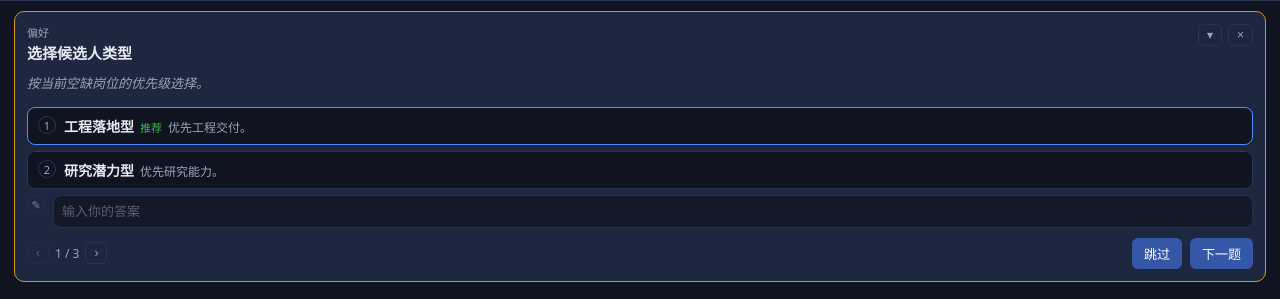
QuestionComposer › shows the inline custom input, reports missing answers, and supports pager navigation
Expected: the text box with placeholder "输入你的答案" is shown, [53,195,1253,228]
Click the radio button labelled "工程落地型". click: (99,126)
box: [27,107,1253,145]
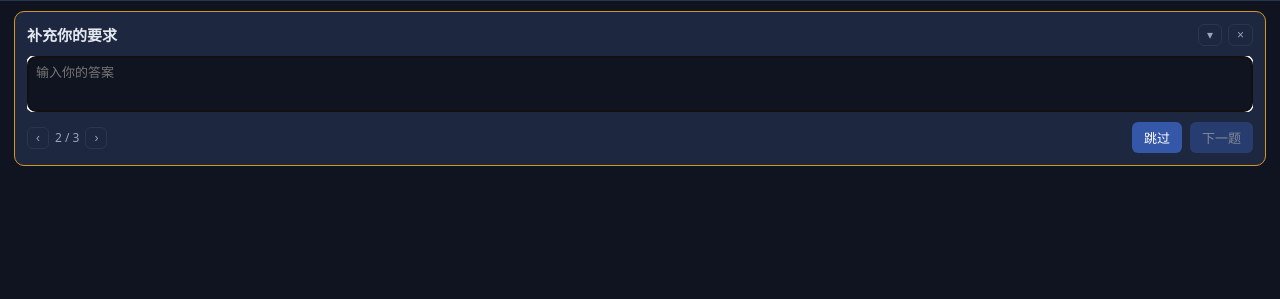
Press Enter in the text box with placeholder "输入你的答案", box [27,56,1253,112]
Result: the text "2 / 3" is shown at [55,129,80,146]
Press Enter in the text box with placeholder "输入你的答案", box [27,56,1253,112]
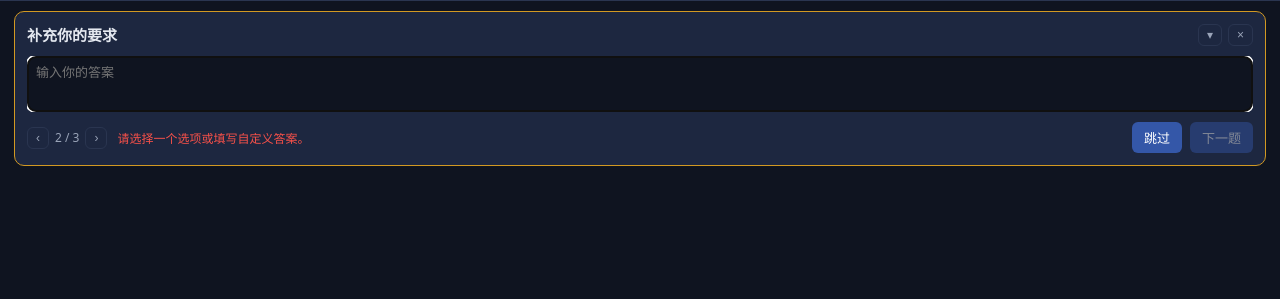
Result: the text "请选择一个选项或填写自定义答案。" is shown at [118,130,310,146]
Click the button named "下一题". click: (96,138)
box: [86,126,108,148]
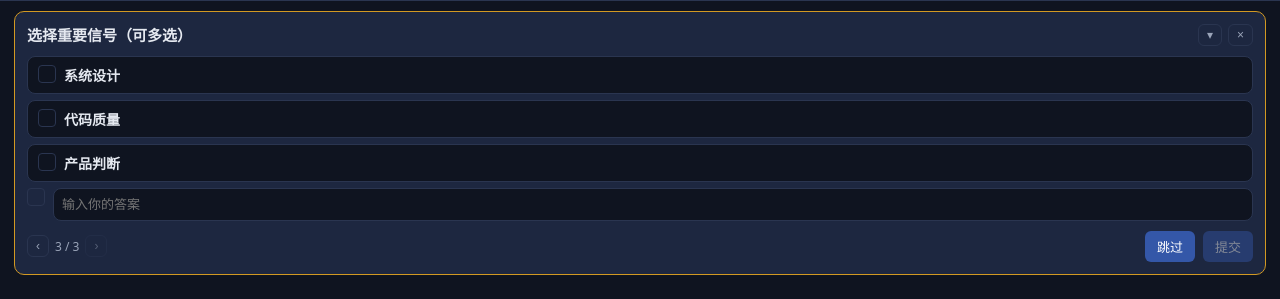
Click the checkbox labelled "产品判断". click: (92,164)
box: [27,144,1253,182]
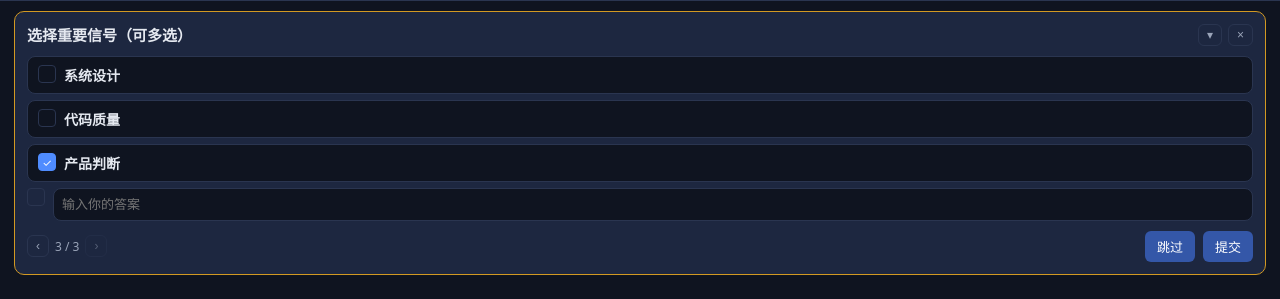
Click the button "提交". click: (1228,246)
box: [1203,231,1253,262]
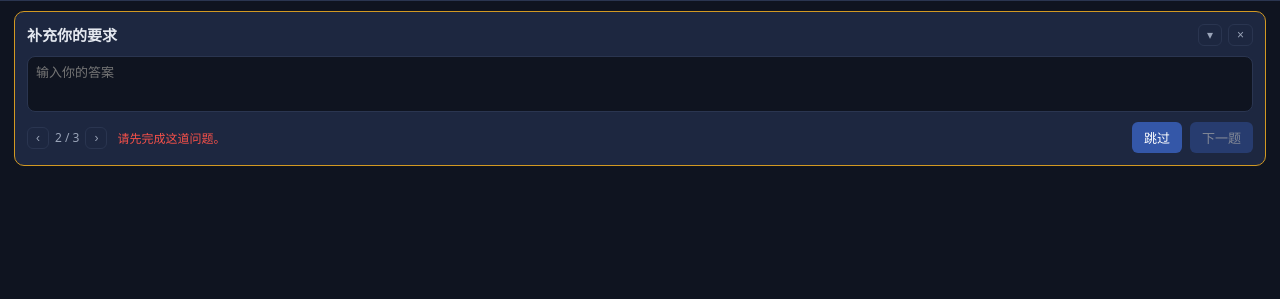
Result: the text "请先完成这道问题。" is shown at [118,130,226,146]
Result: the text "2 / 3" is shown at [55,129,80,146]
Click the button named "上一题". click: (38,138)
box: [27,126,49,148]
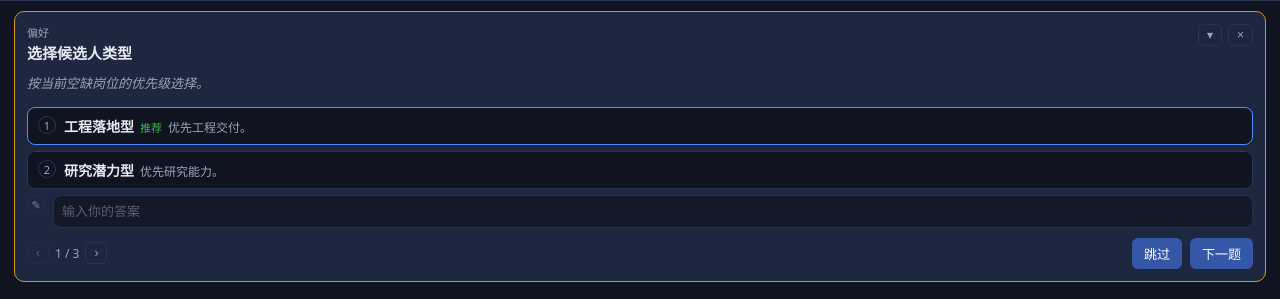
Result: the text "1 / 3" is shown at [55,245,80,262]
